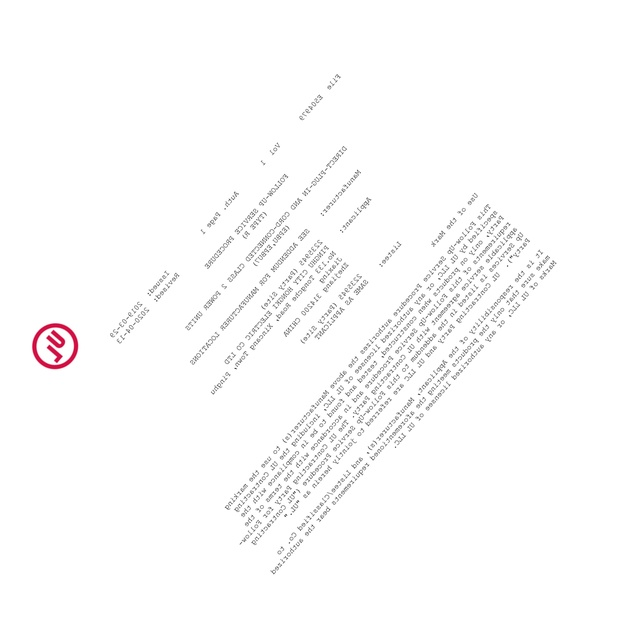ul: (32, 322, 79, 370)
